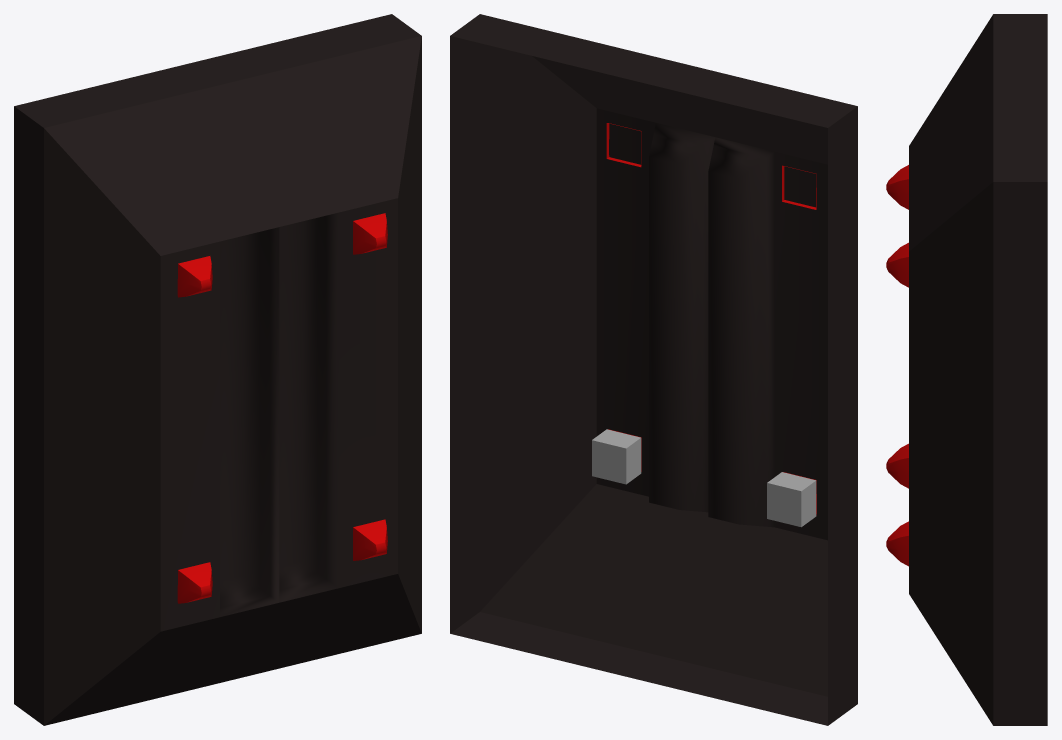
The model's file is Power_Lever_Body.fbx.
The picture shows the model from 3 angles, left to right: view 1: azimuth 30°, elevation 25°; view 2: azimuth 150°, elevation 25°; view 3: azimuth 270°, elevation 25°; orthographic projection. The views are drawn at different scales.
Parts seen in each view (by area): view 1: Power_LeverBody; view 2: Power_LeverBody; view 3: Power_LeverBody.
Boxes of the visible parts, box(x1,y1,x2,y2) form: Power_LeverBody: box(14, 14, 421, 725); Power_LeverBody: box(450, 14, 857, 725); Power_LeverBody: box(886, 14, 1047, 725).
Bounding box in the file's own units: 1.57 × 2.37 × 0.6386.
